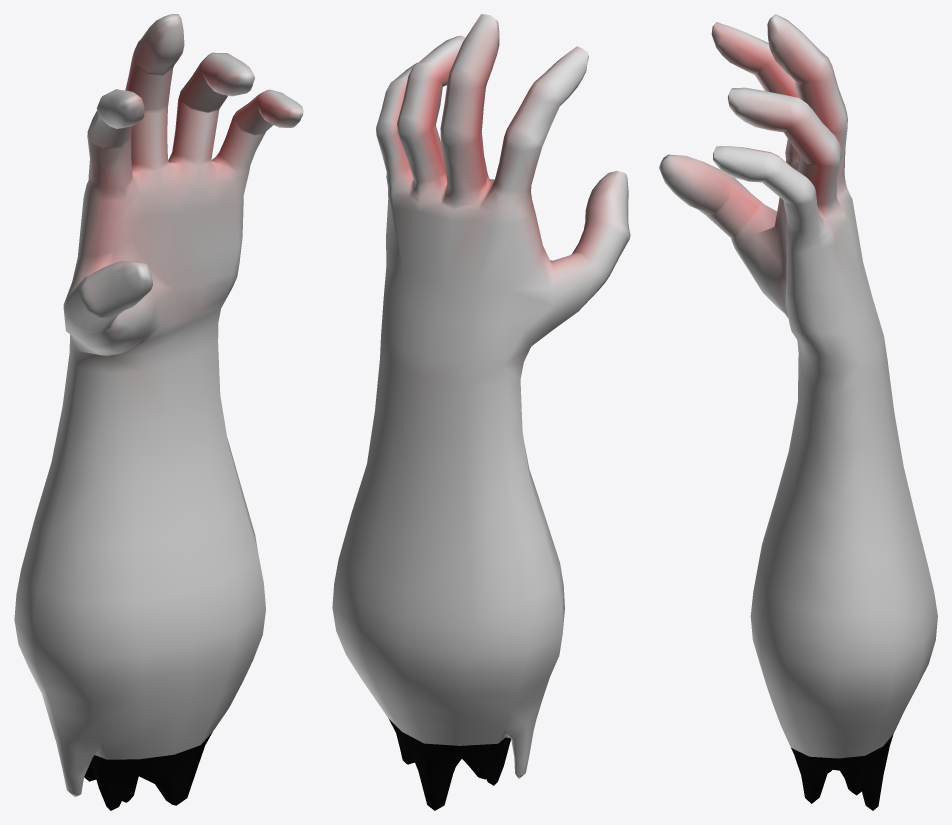
Rendered from SM_WEP_D72NJ2_HND01_L.glb.
3 views of the same model, side by side, from view 1: azimuth 30°, elevation 25°; view 2: azimuth 150°, elevation 25°; view 3: azimuth 270°, elevation 25° (orthographic). The views are drawn at different scales.
Parts seen in each view (by area): view 1: SM_WEP_D72NJ2_HND01_L; view 2: SM_WEP_D72NJ2_HND01_L; view 3: SM_WEP_D72NJ2_HND01_L.
Part boxes in pixels (x1,y1,x2,y2): SM_WEP_D72NJ2_HND01_L: (14,14,303,810); SM_WEP_D72NJ2_HND01_L: (332,14,630,810); SM_WEP_D72NJ2_HND01_L: (659,14,937,810).
Size of the model in its own units: 0.3151 by 1.03 by 0.33.
